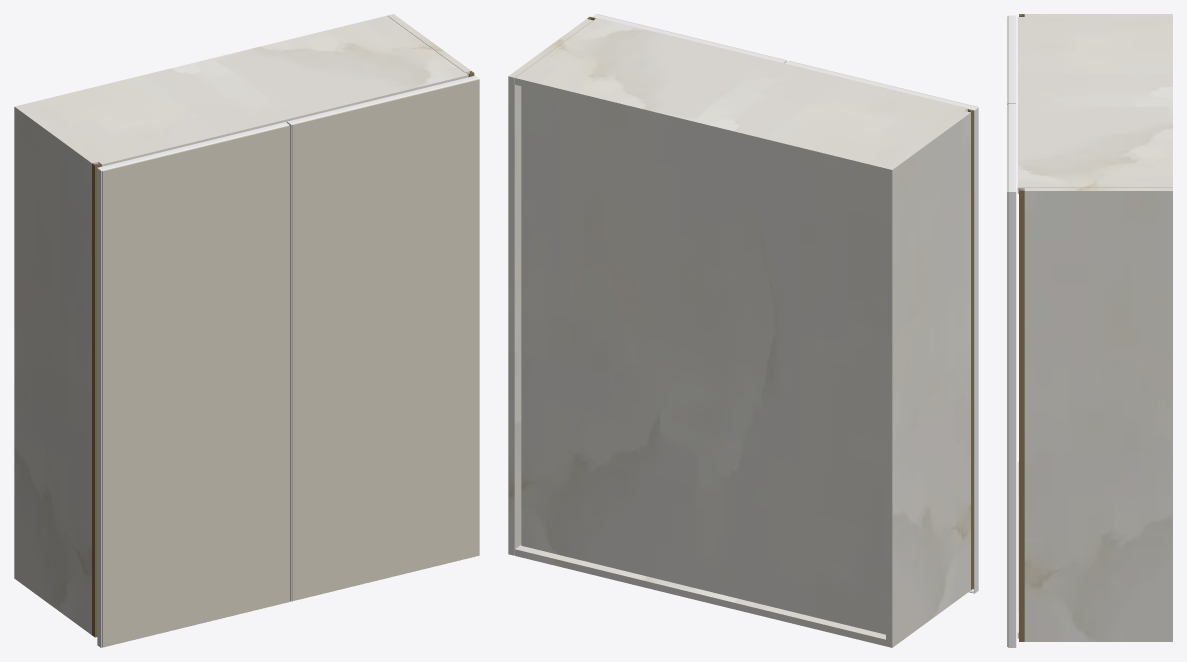
The picture shows the model from 3 angles, left to right: view 1: azimuth 30°, elevation 25°; view 2: azimuth 150°, elevation 25°; view 3: azimuth 270°, elevation 25°; orthographic projection. The views are drawn at different scales.
Size of what is drawn, in the model's own units: 0.9 by 1.09 by 0.3569.
7 materials, 2 textured.
